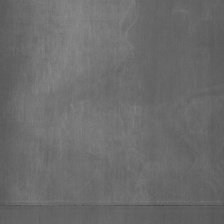welding_line: (0, 198, 224, 213)
